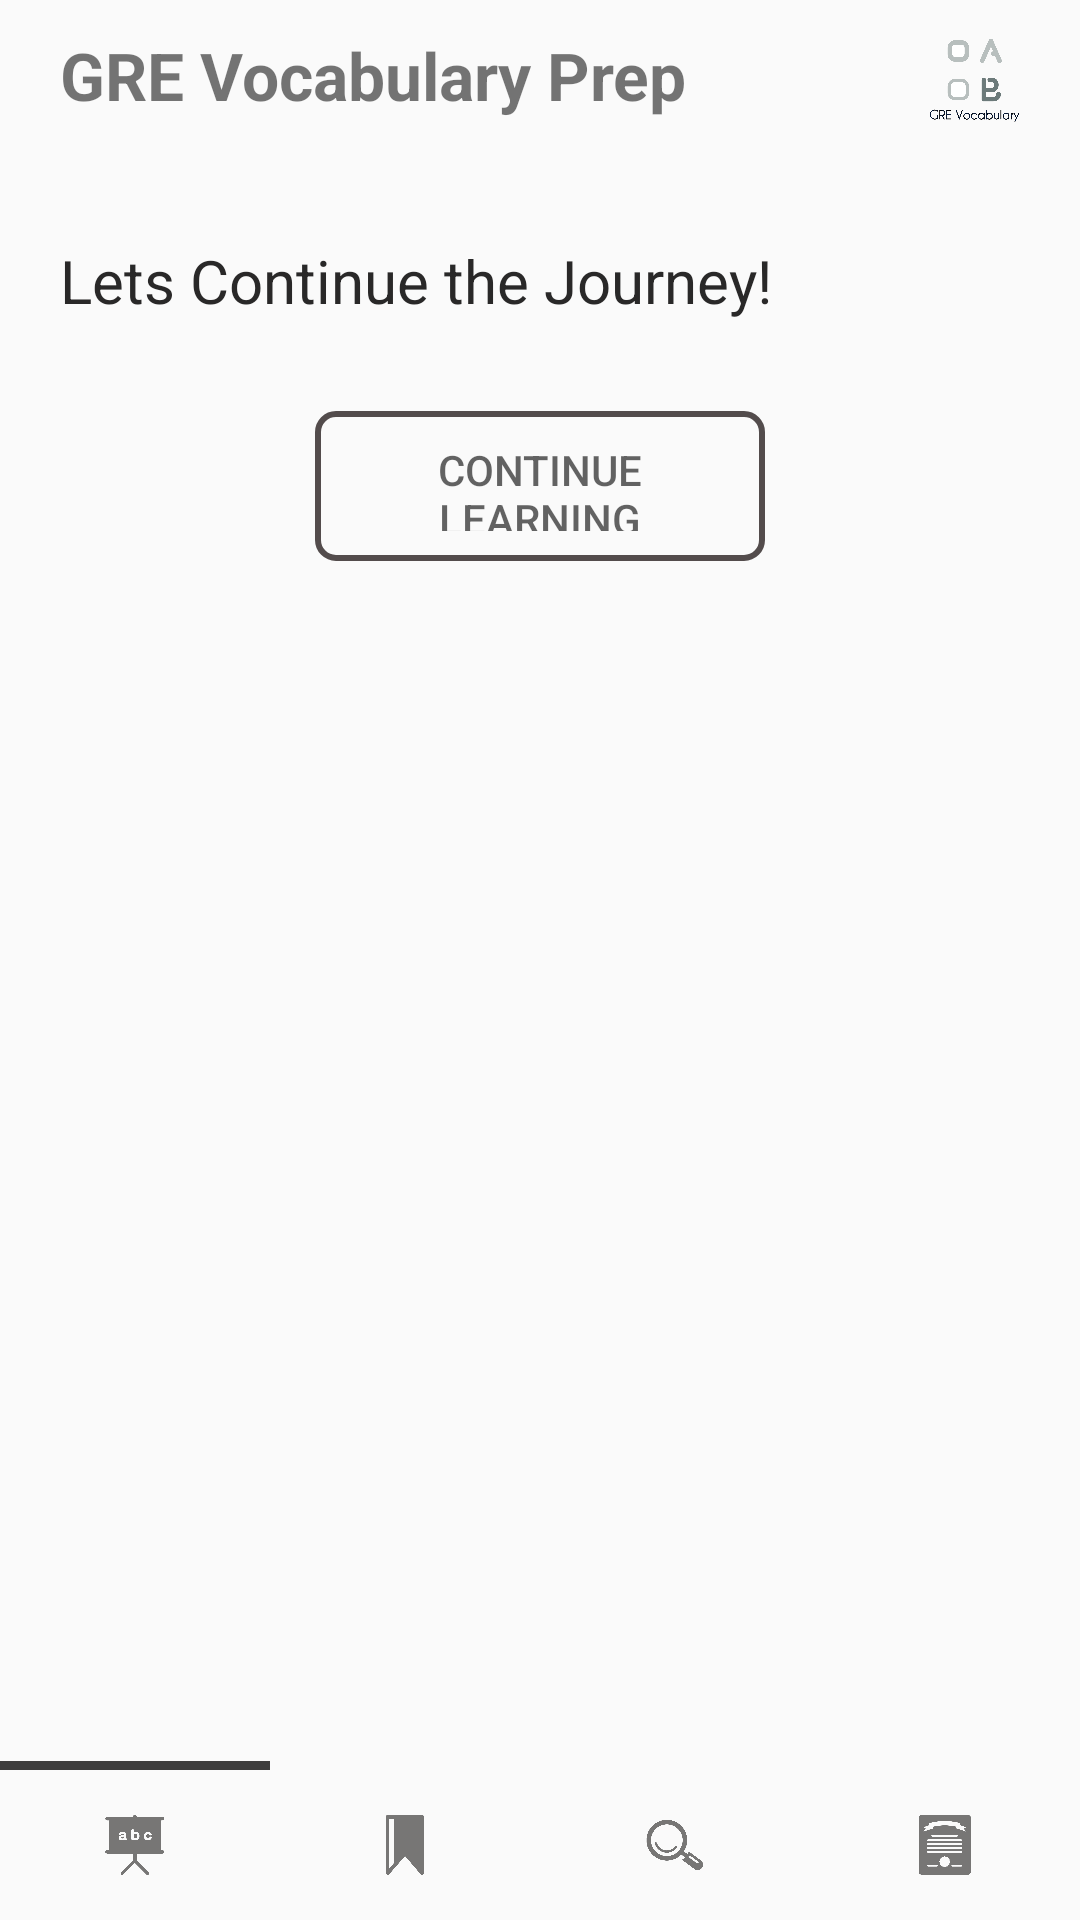

Icons on this 1080px×1920px Android screen, each with its box as (x1, y1, x2, y2):
bookmarks: (386, 1815, 424, 1875)
search: (646, 1820, 703, 1870)
words: (105, 1815, 164, 1875)
